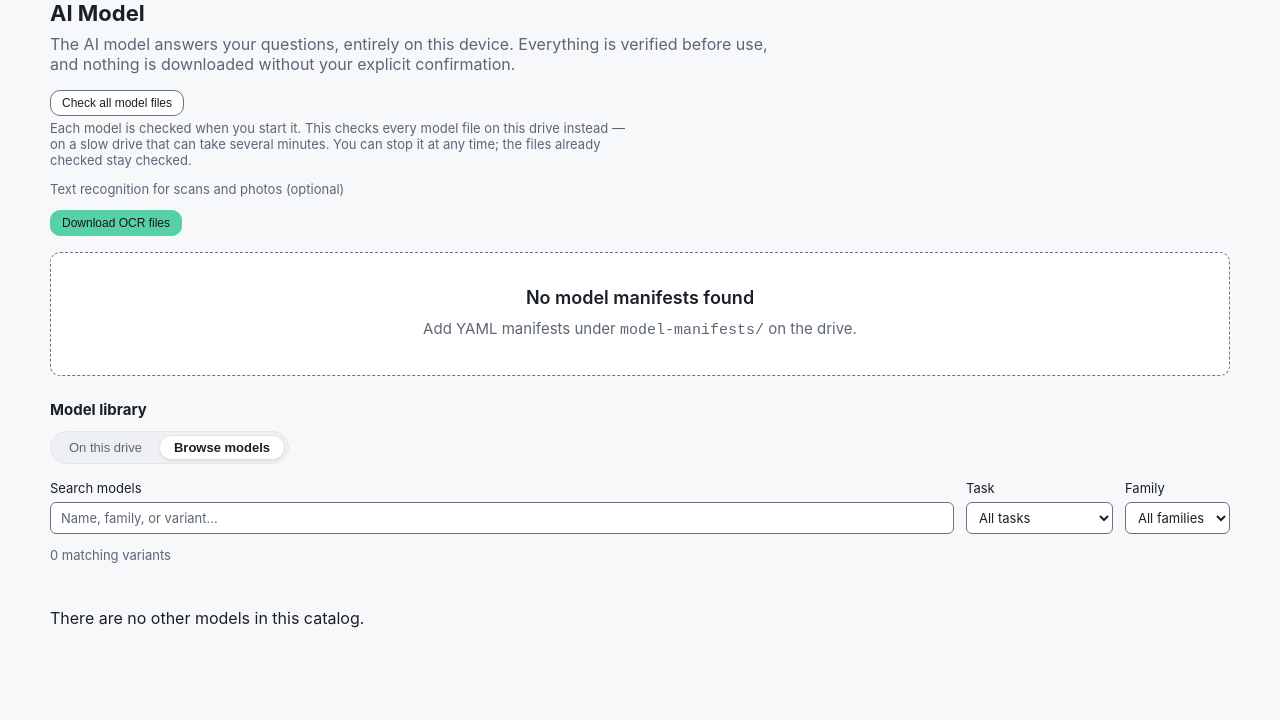
Test case: OcrInstall — AI Model screen row (#410) › 16: a "restartRequired" outcome keeps the row visible with its outcome copy
Click the button "Download OCR files" at (116, 223), box x1=50 y1=210 x2=182 y2=236
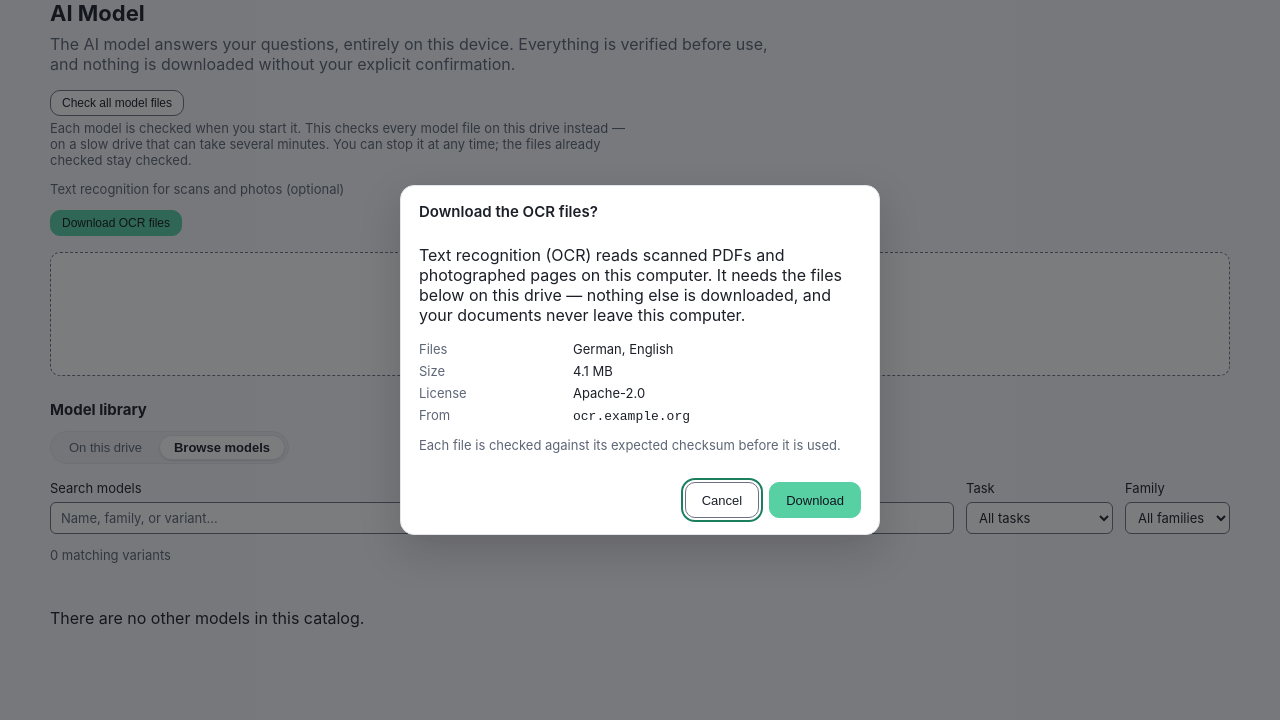
Click the button "Download" at (815, 500), box x1=769 y1=482 x2=861 y2=518
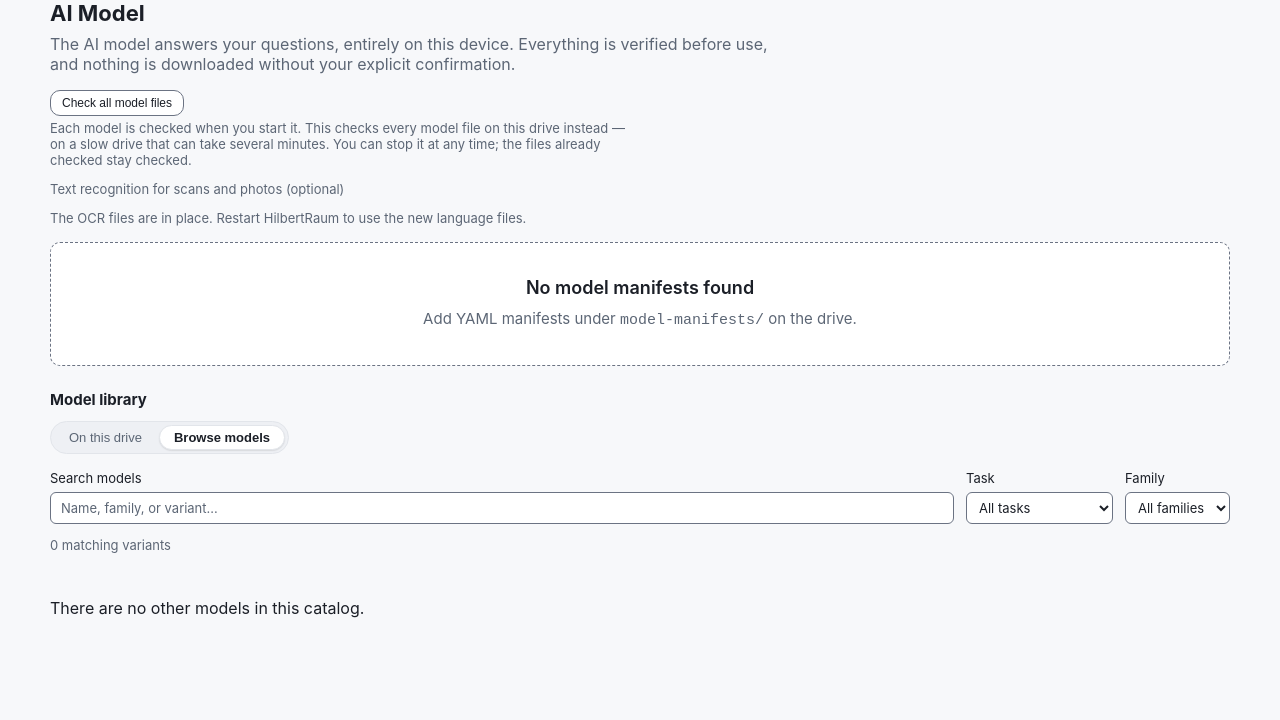
Check: the text "Text recognition for scans and photos (optional)" is shown, box x1=50 y1=181 x2=344 y2=197
Check: the text "The OCR files are in place. Restart HilbertRaum to use the new language files." is shown, box x1=50 y1=210 x2=526 y2=226
